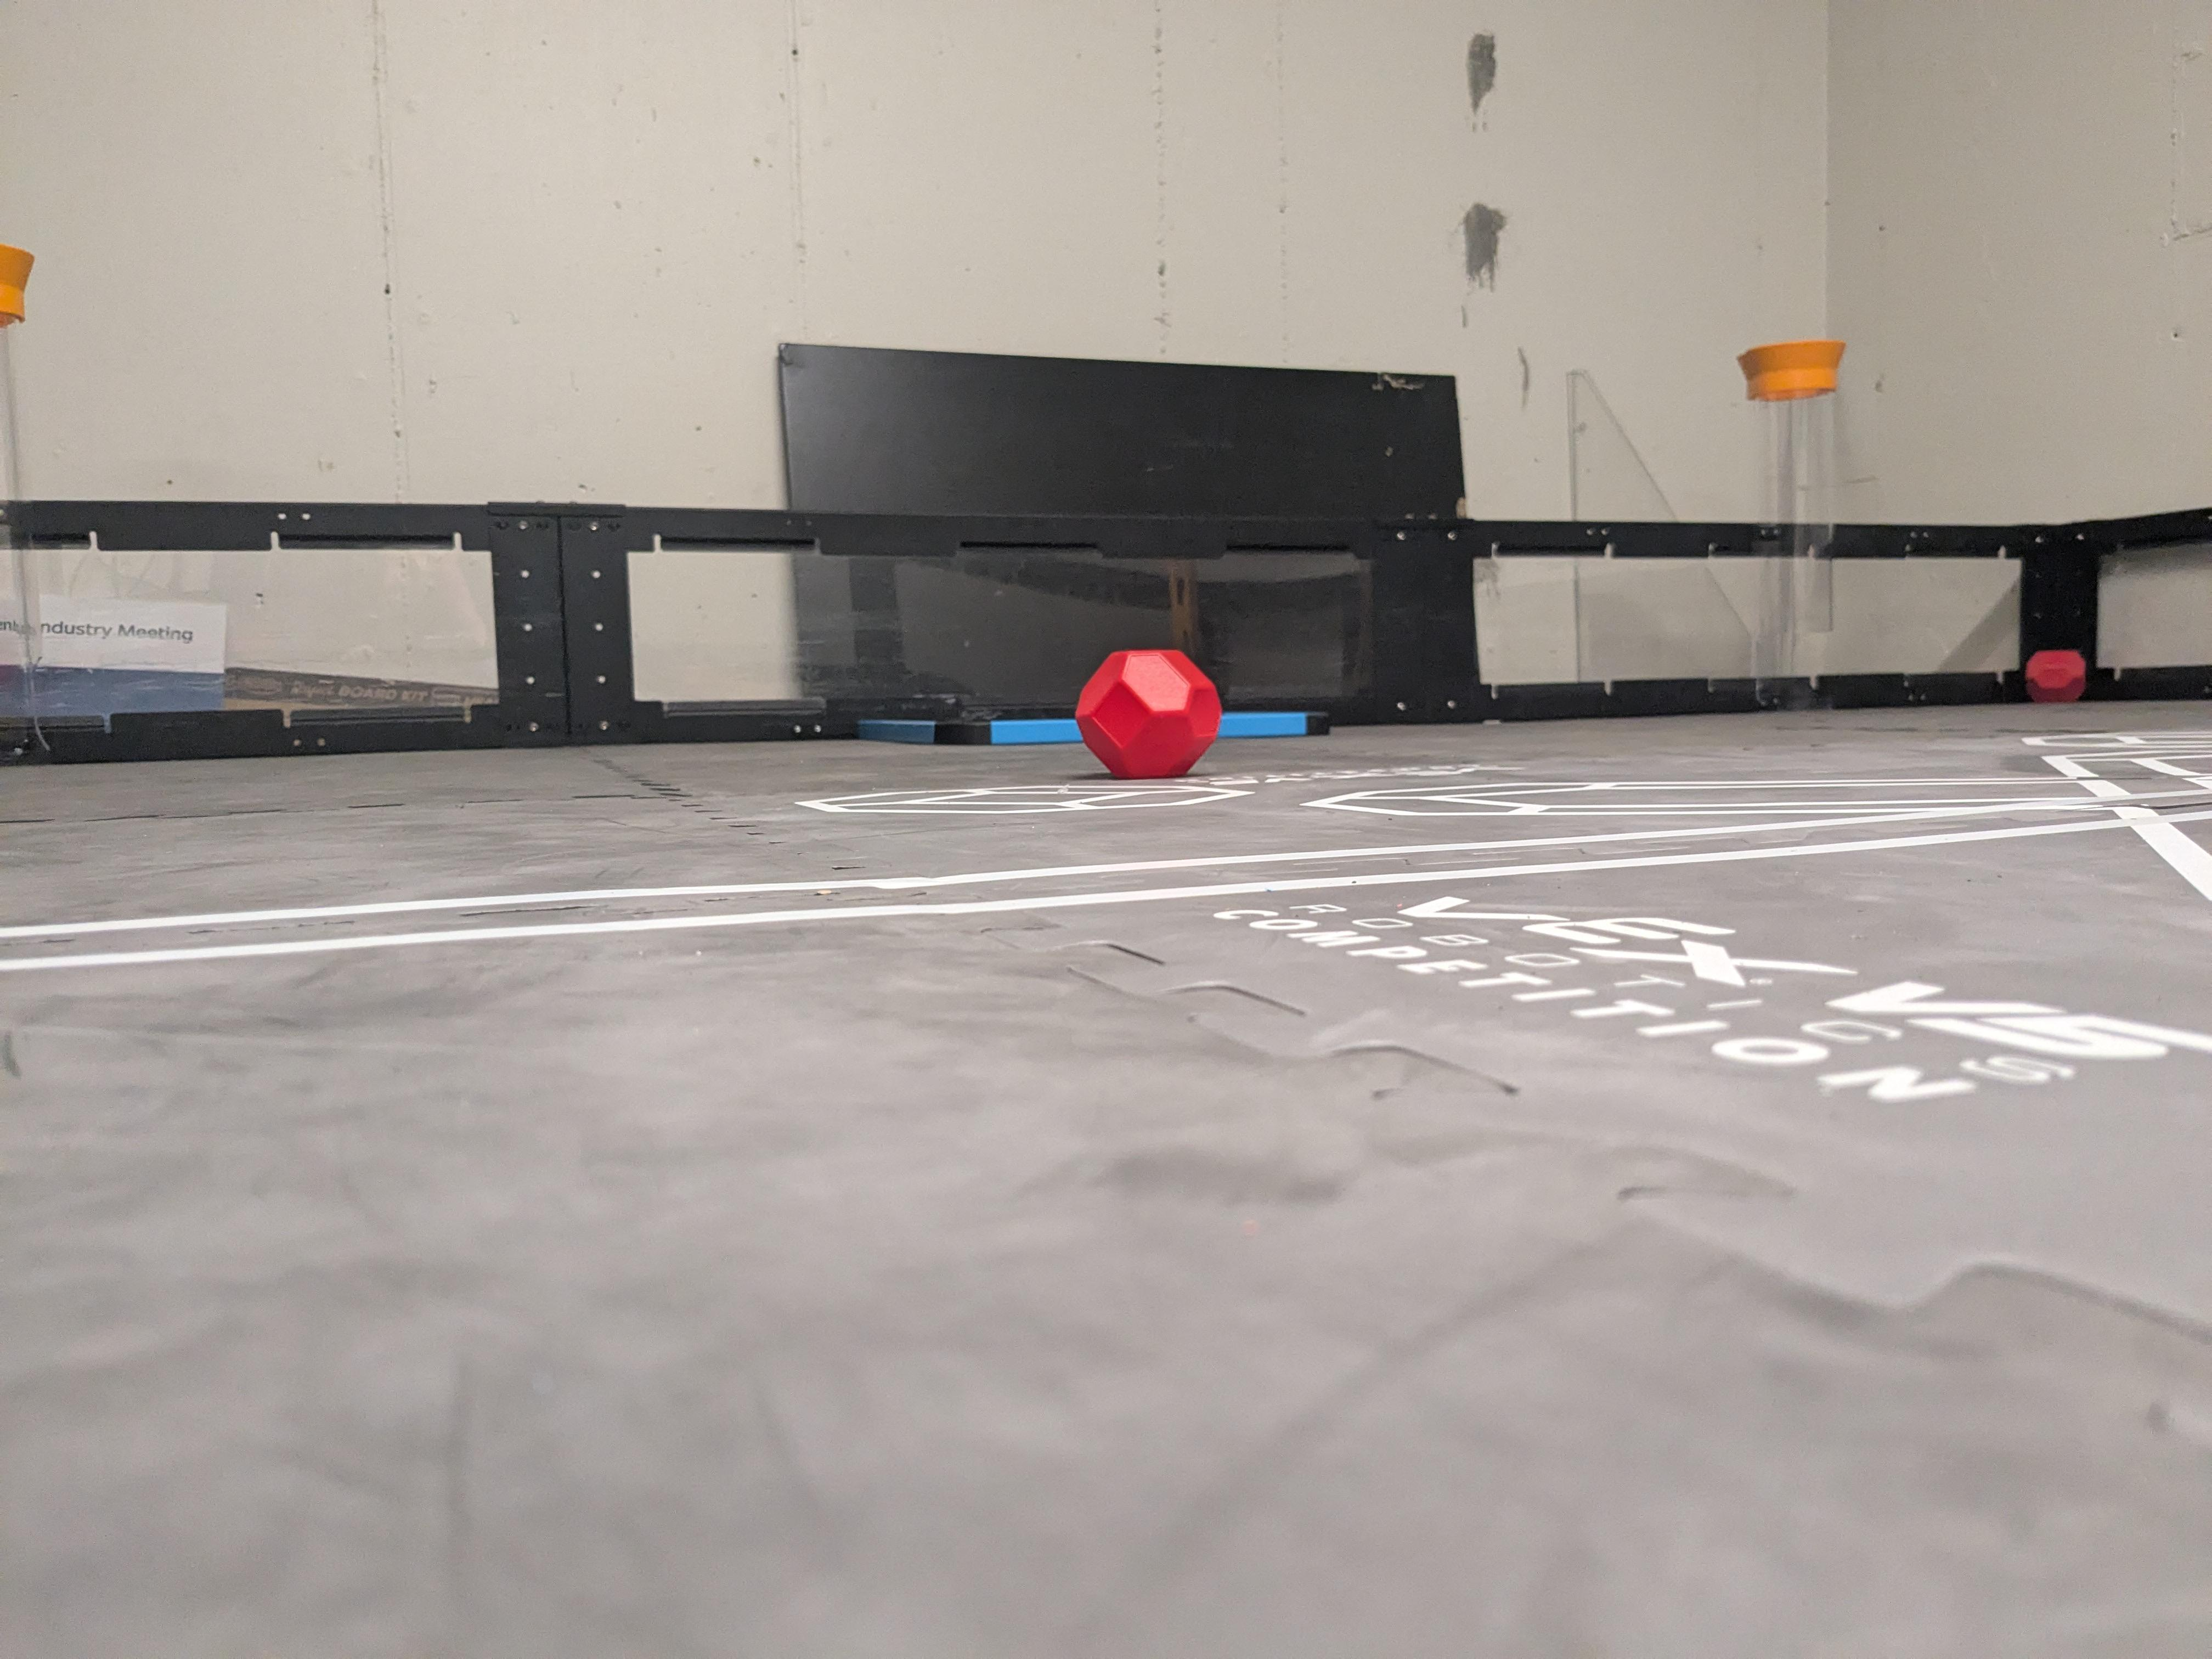Vex-Pieces-RED: (1078, 650, 1219, 774), (2026, 650, 2087, 702)
